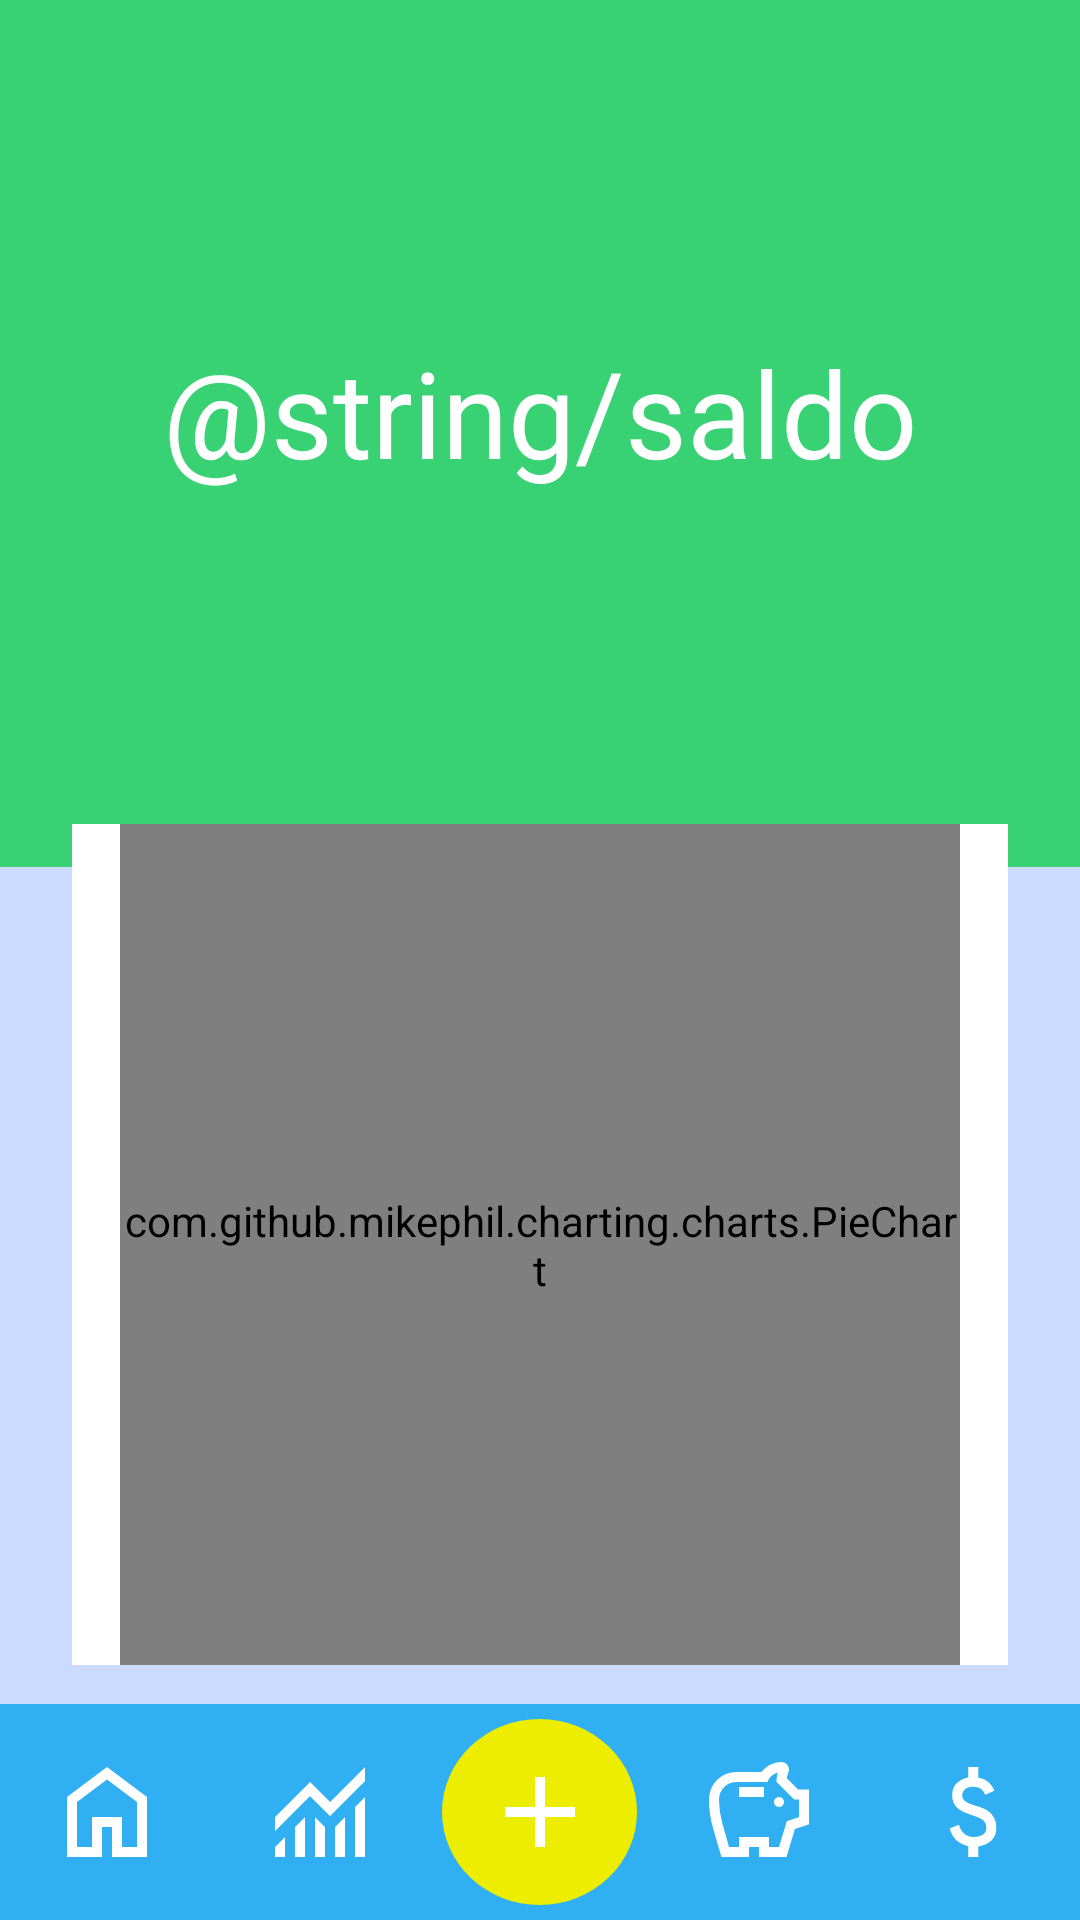

Where icons sit on this 1080*1920 app screen, as (x1, y1, x2, y2):
add: (442, 1719, 637, 1905)
attach money: (949, 1767, 997, 1857)
home: (67, 1767, 147, 1857)
monitoring: (275, 1767, 365, 1857)
savings: (709, 1762, 809, 1857)
